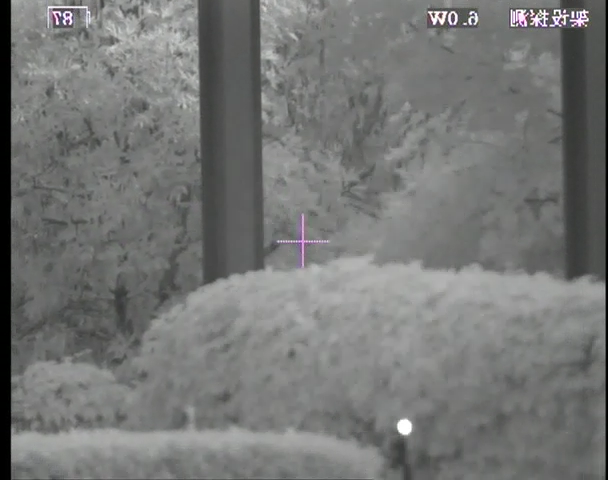my: (395, 417, 413, 436)
